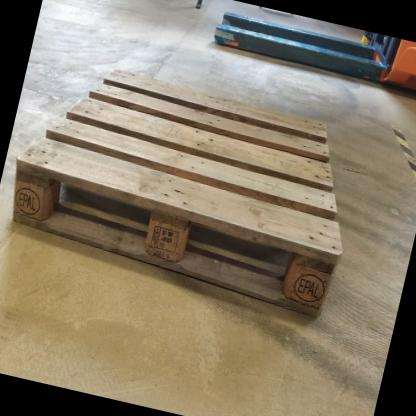BoxFace: (10, 62, 347, 323)
